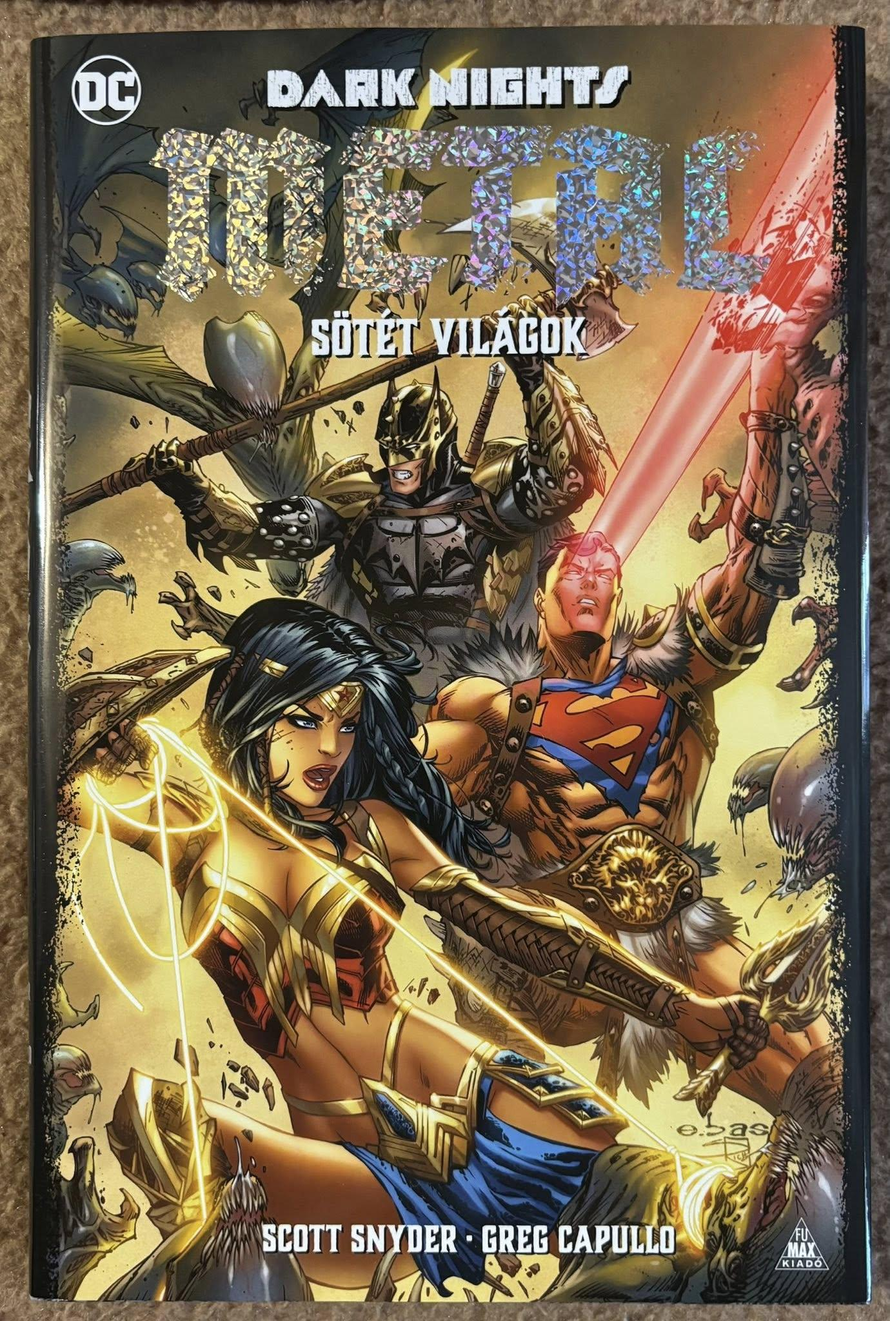comic: (29, 27, 868, 1304)
